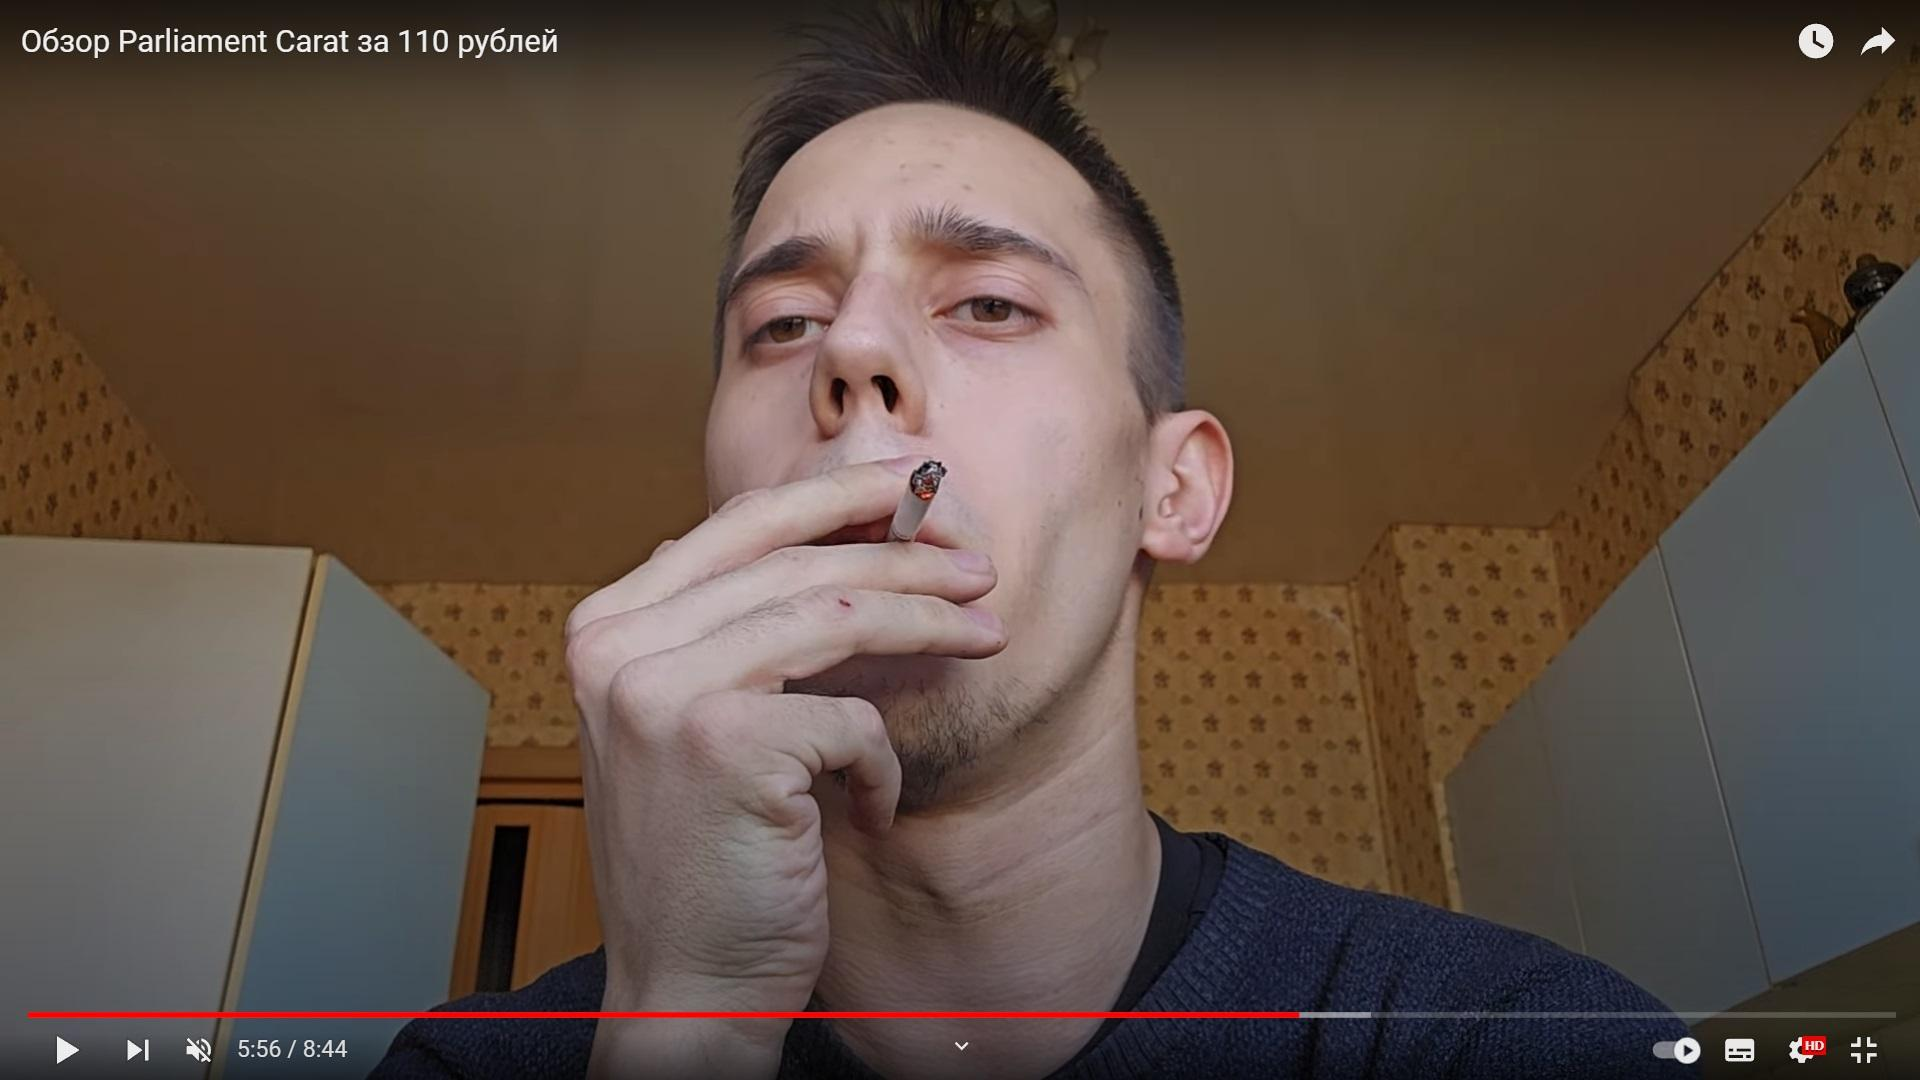cigarette: (884, 460, 949, 542)
